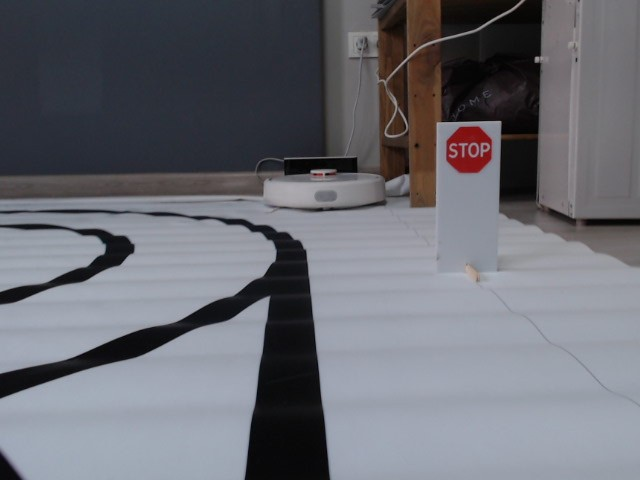Stop: (445, 124, 494, 177)
